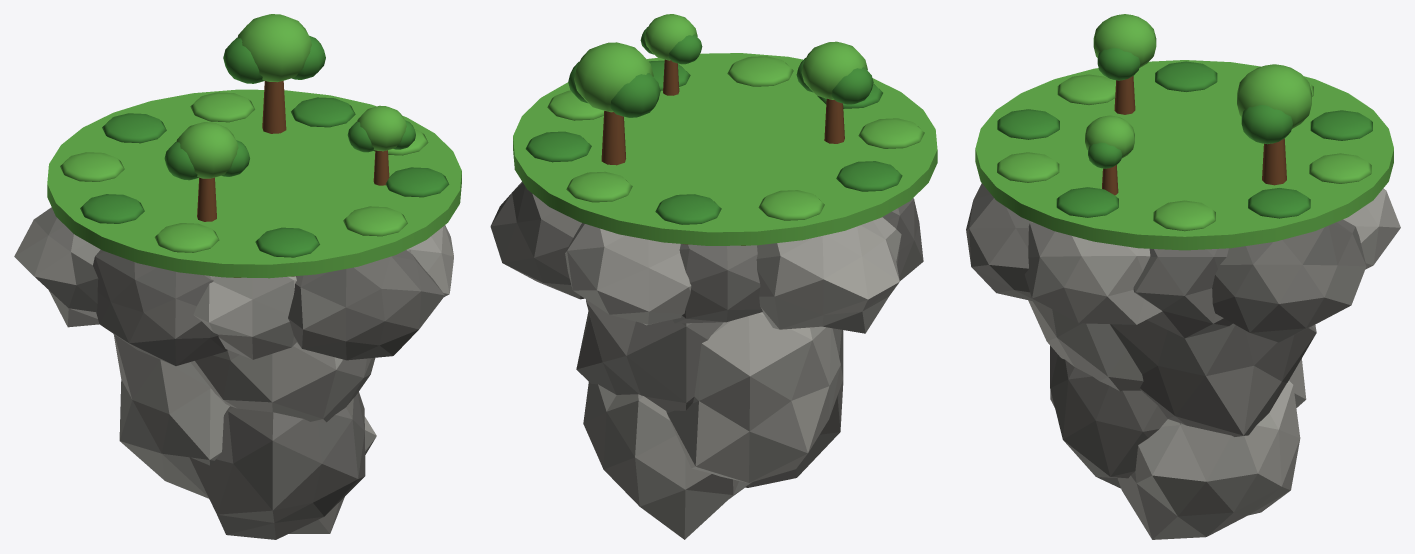
The model's file is FloatingIsland.glb.
3 renders of one model, left to right at view 1: azimuth 30°, elevation 25°; view 2: azimuth 150°, elevation 25°; view 3: azimuth 270°, elevation 25°, orthographic. The views are drawn at different scales.
Visible parts, largest first — view 1: Body; view 2: Body; view 3: Body.
Boxes of the visible parts, bbox=[...] form: Body: bbox=[14, 14, 461, 539]; Body: bbox=[490, 14, 937, 539]; Body: bbox=[966, 14, 1400, 539].
Size of the model in its own units: 29.2 by 35.04 by 29.09.
Materials: 2 (1 with a texture image).
